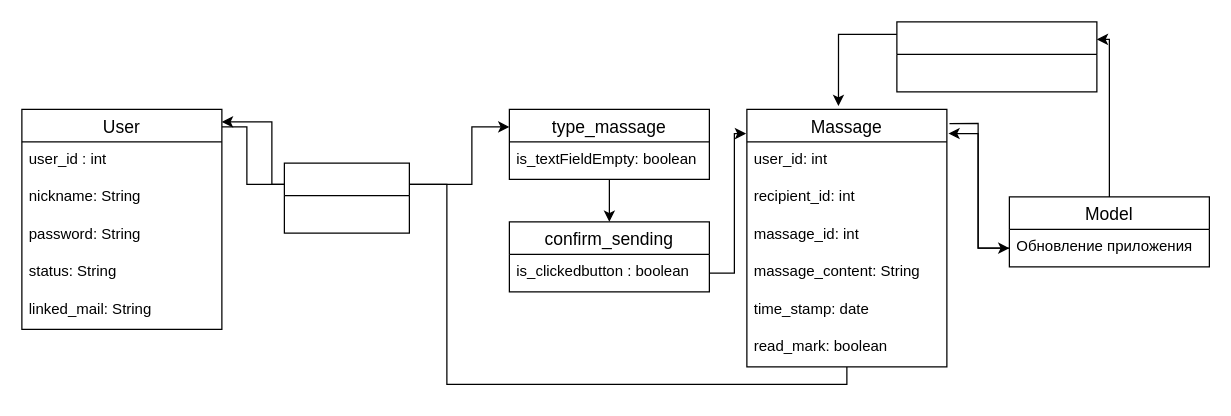
The diagram is 1231 pixels wide and 416 high, and some of its shapes have lost their labels. The centre of each missing label's shape, as x and y in pixels:
"get_massage" goes at (996,56).
"UX/UI" goes at (346,197).
